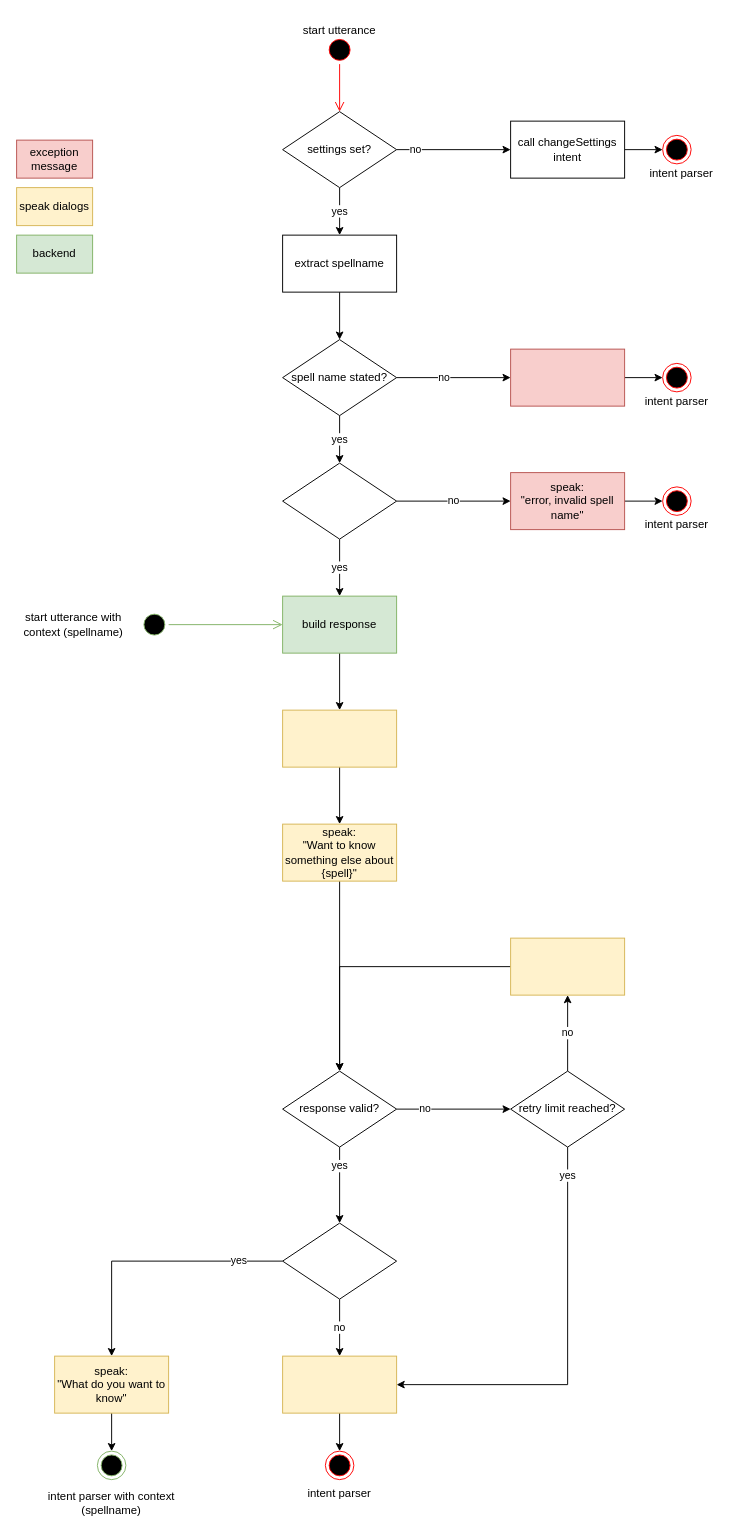
The diagram is 755 pixels wide and 1533 high, and some of its shapes have lost their labels. Here are the shapes that lost their labels. From the top down, the box of each, then its label:
(510, 348, 625, 406): speak: "error, no spell name"
(282, 462, 397, 539): valid spellname?
(282, 709, 397, 767): speak: {spell description}
(510, 937, 625, 995): speak: "Say that again"
(282, 1222, 397, 1299): want know more?
(282, 1355, 397, 1413): speak: "alright"
